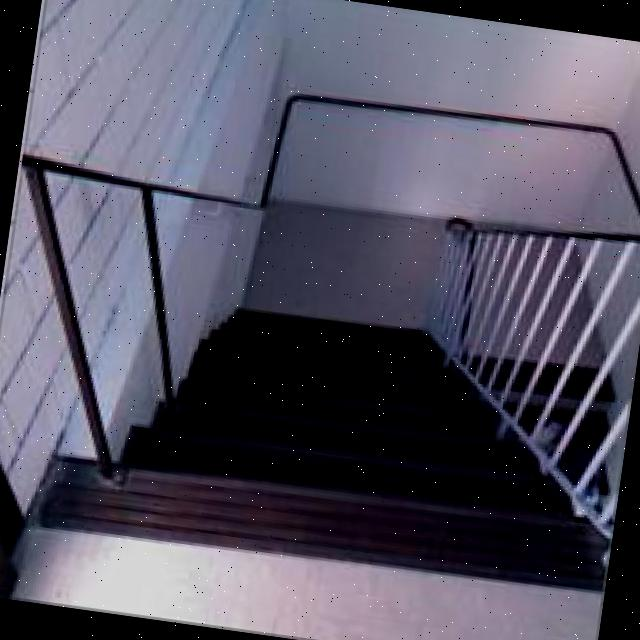stairs: (34, 274, 636, 602)
